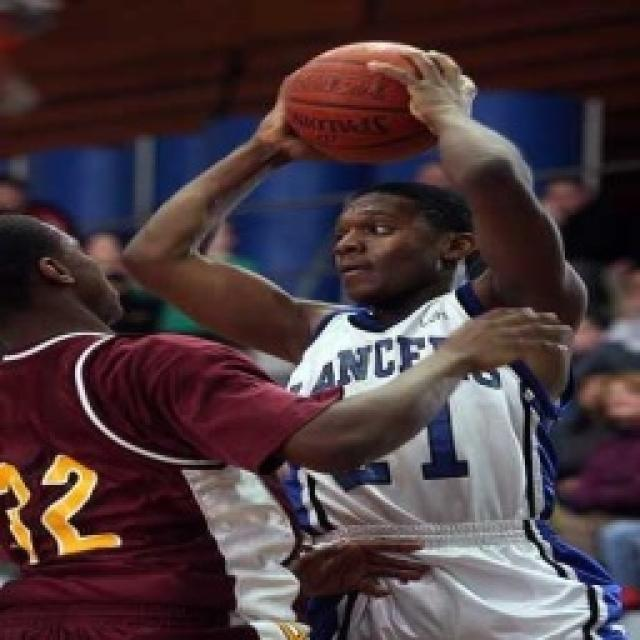rim: (275, 36, 454, 170)
